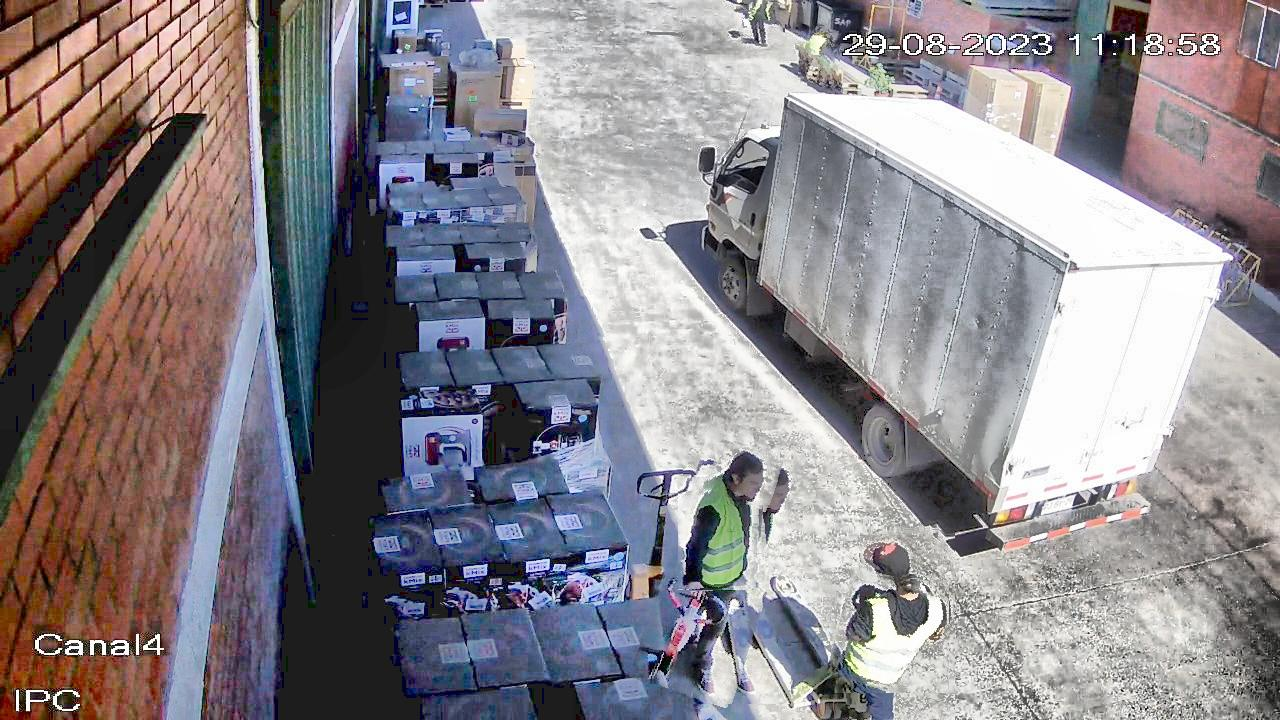con-chaleco: (832, 572, 949, 693), (679, 476, 767, 591), (807, 33, 833, 58), (750, 0, 774, 17)
persona: (649, 420, 792, 704), (824, 527, 955, 720), (801, 25, 841, 87), (737, 0, 786, 50)
sin-casco: (707, 443, 780, 506), (861, 534, 919, 593), (815, 27, 830, 39)
